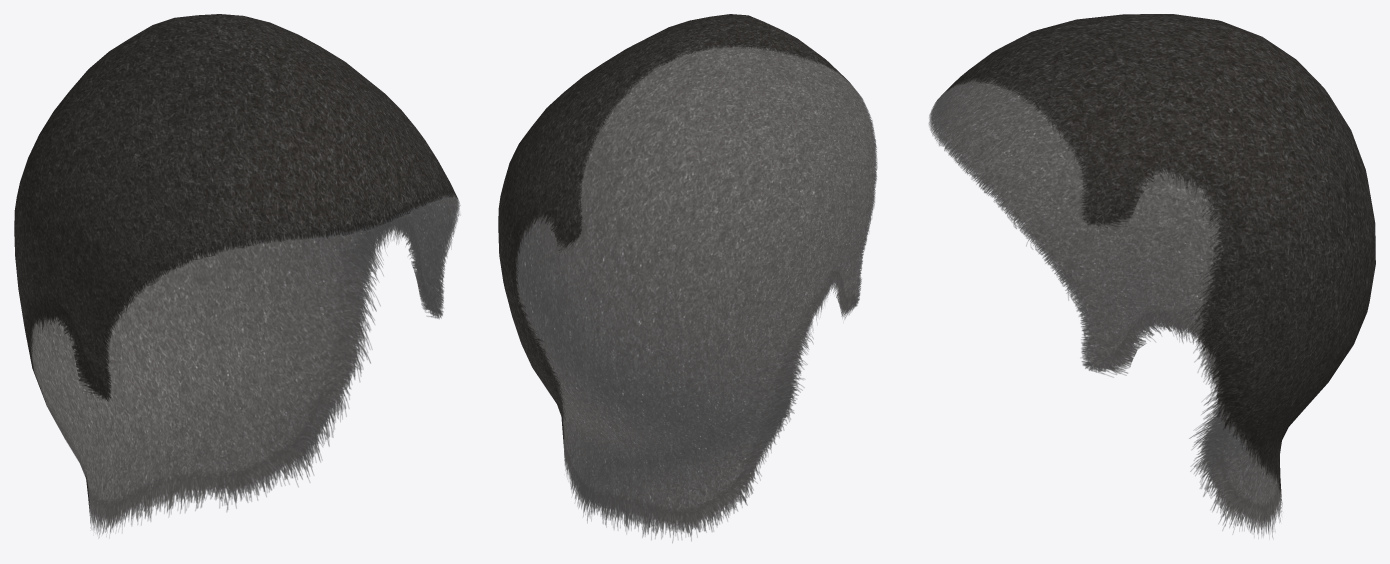
The model's file is lowcut.glb.
3 views of the same model, side by side, from view 1: azimuth 30°, elevation 25°; view 2: azimuth 150°, elevation 25°; view 3: azimuth 270°, elevation 25° (orthographic). The views are drawn at different scales.
Parts seen in each view (by area): view 1: Object_2; view 2: Object_2; view 3: Object_2.
Boxes of the visible parts, bbox=[...] form: Object_2: bbox=[14, 14, 460, 538]; Object_2: bbox=[498, 14, 877, 543]; Object_2: bbox=[928, 14, 1375, 539].
Size of the model in its own units: 14.04 by 20.61 by 17.49.
Materials: 1 (1 with a texture image).
